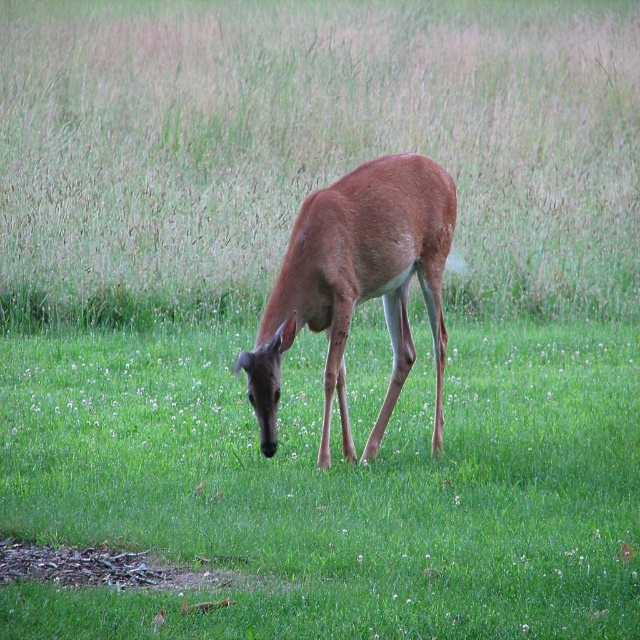Deer: (226, 150, 458, 461)
